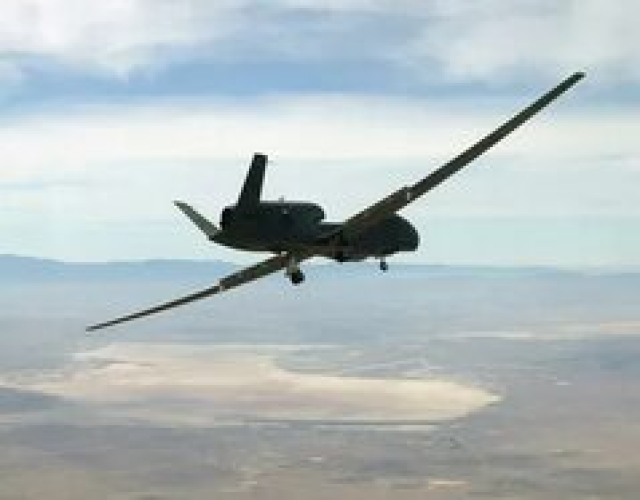military drone: (85, 72, 586, 332)
